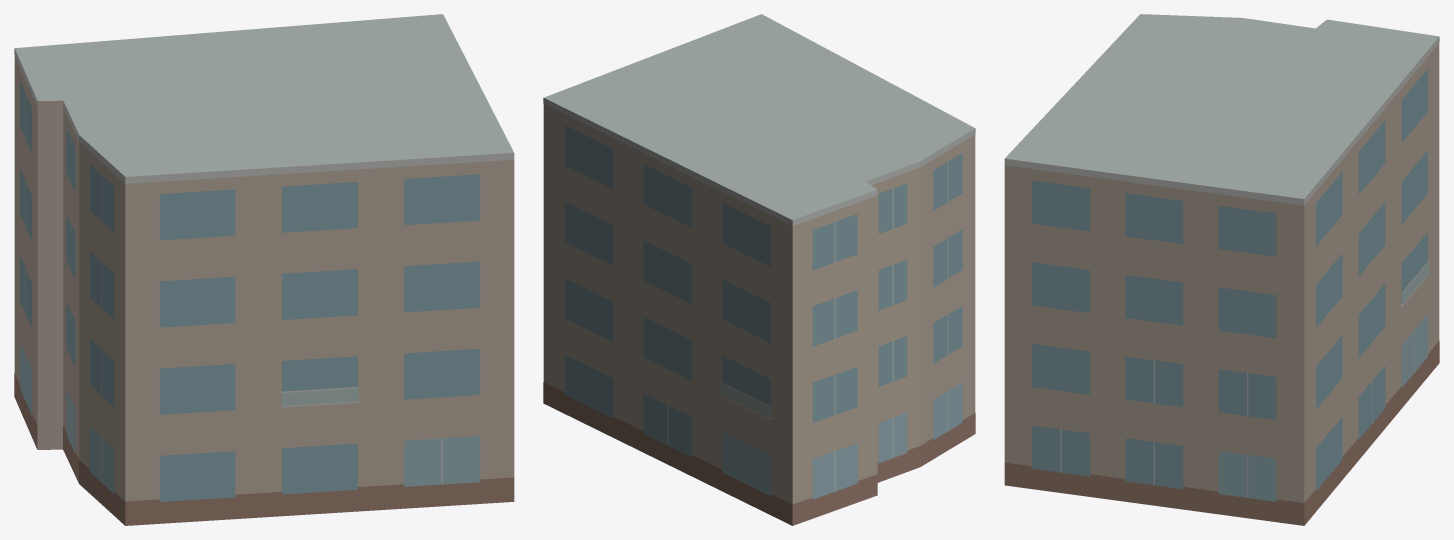
Rendered from survey-upis-32693079.glb.
The picture shows the model from 3 angles, left to right: view 1: azimuth 30°, elevation 25°; view 2: azimuth 150°, elevation 25°; view 3: azimuth 270°, elevation 25°; orthographic projection. The views are drawn at different scales.
Parts seen in each view (by area): view 1: survey-upis-32693079.tmp; view 2: survey-upis-32693079.tmp; view 3: survey-upis-32693079.tmp.
Part boxes in pixels (box(x1,y1,x2,y2)): survey-upis-32693079.tmp: box(14, 14, 514, 525); survey-upis-32693079.tmp: box(543, 14, 975, 525); survey-upis-32693079.tmp: box(1004, 14, 1439, 525).
Size of the model in its own units: 14.84 by 12.2 by 14.73.
